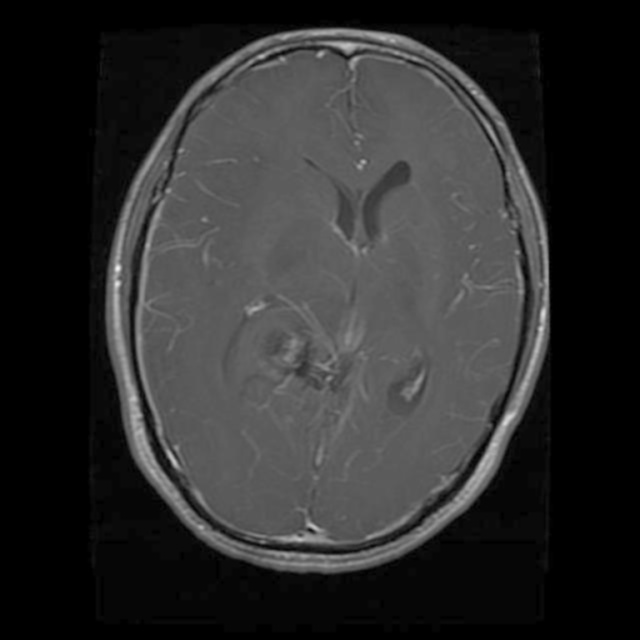pituitary tumor: (271, 328, 355, 392)
